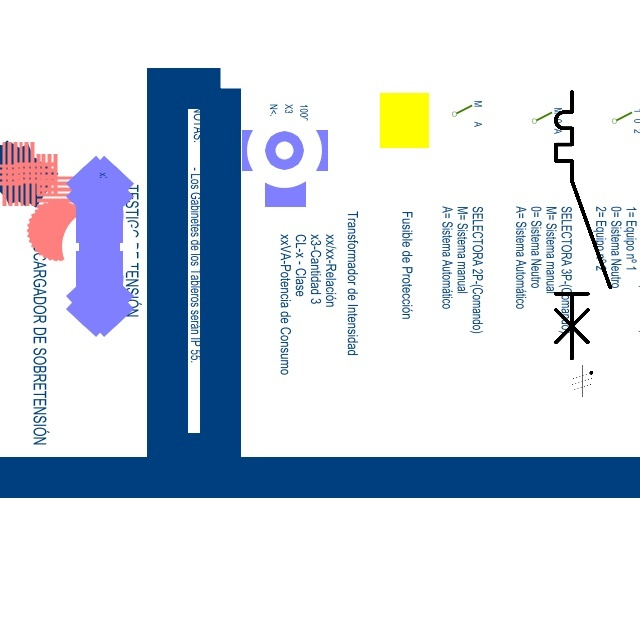interruptor_termomagnetico: (549, 85, 617, 365)
